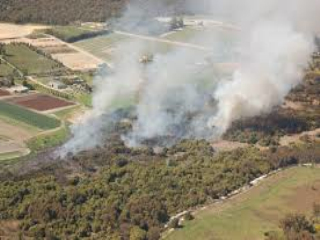smoke: (47, 38, 304, 163)
